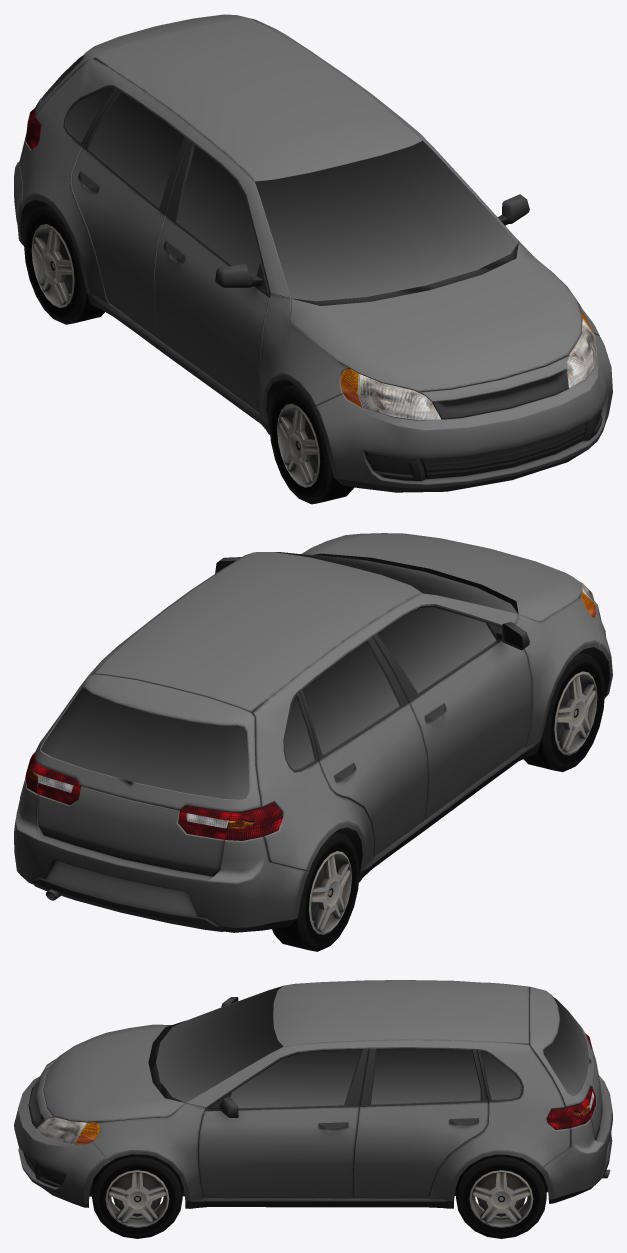
File: SM_Car_05.fbx
3 renders of one model, top to bottom at view 1: azimuth 30°, elevation 25°; view 2: azimuth 150°, elevation 25°; view 3: azimuth 270°, elevation 25°, orthographic. The views are drawn at different scales.
Parts seen in each view (by area): view 1: SM_Car_05_LOD0; view 2: SM_Car_05_LOD0; view 3: SM_Car_05_LOD0.
Part boxes in pixels (x1=…): SM_Car_05_LOD0: x1=14, y1=14, x2=612, y2=504; SM_Car_05_LOD0: x1=14, y1=533, x2=612, y2=951; SM_Car_05_LOD0: x1=14, y1=980, x2=612, y2=1238.
Size of what is drawn, in the model's own units: 1.96 by 1.52 by 4.45.
